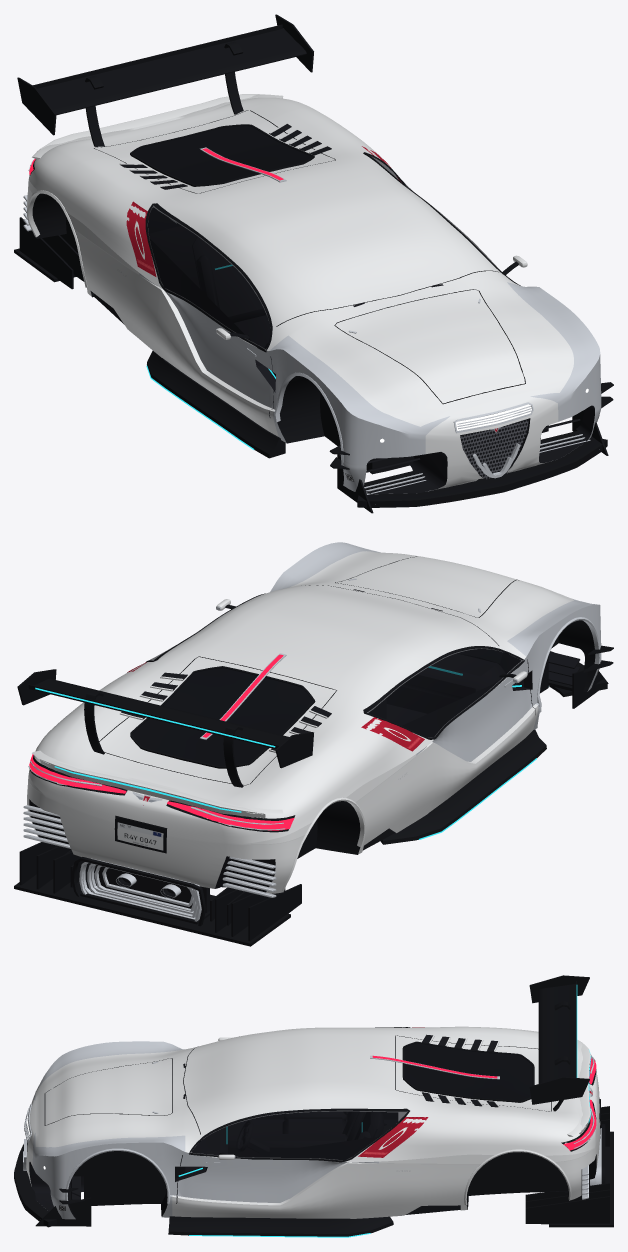
Rendered from car_caliburn.glb.
3 renders of one model, top to bottom at view 1: azimuth 30°, elevation 25°; view 2: azimuth 150°, elevation 25°; view 3: azimuth 270°, elevation 25°, orthographic. The views are drawn at different scales.
Parts seen in each view (by area): view 1: body, kit_1_parts, spoiler_2_parts, kit_0_parts, spoiler_1_parts; view 2: body, kit_1_parts, spoiler_2_parts, kit_0_parts, spoiler_1_parts; view 3: body, kit_1_parts, spoiler_2_parts, spoiler_1_parts, kit_0_parts.
Part boxes in pixels (x1,y1,x2,y2): body: (23, 94, 601, 494); kit_1_parts: (14, 212, 613, 513); spoiler_2_parts: (17, 14, 313, 146); kit_0_parts: (60, 207, 599, 504); spoiler_1_parts: (39, 94, 264, 149); body: (23, 542, 601, 897); kit_1_parts: (14, 645, 613, 946); spoiler_2_parts: (17, 669, 313, 787); kit_0_parts: (65, 680, 572, 925); spoiler_1_parts: (40, 758, 265, 818); body: (23, 1026, 600, 1219); kit_1_parts: (14, 1106, 613, 1237); spoiler_2_parts: (529, 975, 589, 1111); spoiler_1_parts: (579, 1042, 591, 1134); kit_0_parts: (68, 1128, 601, 1218).
Size of what is drawn, in the model's own units: 2.18 by 1.31 by 4.62.
10 materials, 1 textured.
